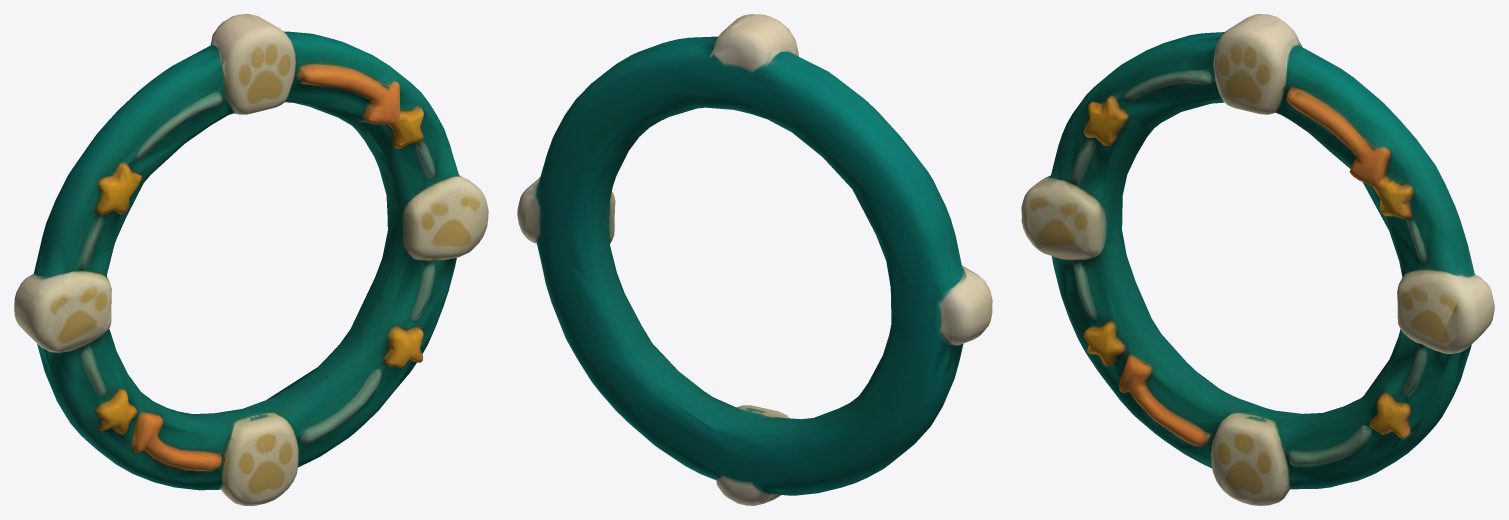
Rendered from current-turn-ring.glb.
3 renders of one model, left to right at view 1: azimuth 30°, elevation 25°; view 2: azimuth 150°, elevation 25°; view 3: azimuth 330°, elevation 25°, orthographic.
Parts seen in each view (by area): view 1: Mesh_0; view 2: Mesh_0; view 3: Mesh_0.
Boxes of the visible parts, bbox=[...] form: Mesh_0: bbox=[14, 14, 488, 505]; Mesh_0: bbox=[517, 14, 992, 505]; Mesh_0: bbox=[1021, 14, 1494, 505].
Size of the model in its own units: 2 by 2 by 0.2543.
Materials: 1 (1 with a texture image).
